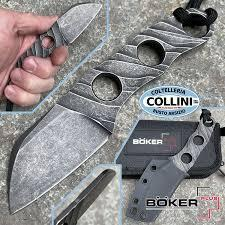Knife: (127, 110, 216, 222), (9, 2, 102, 67)
